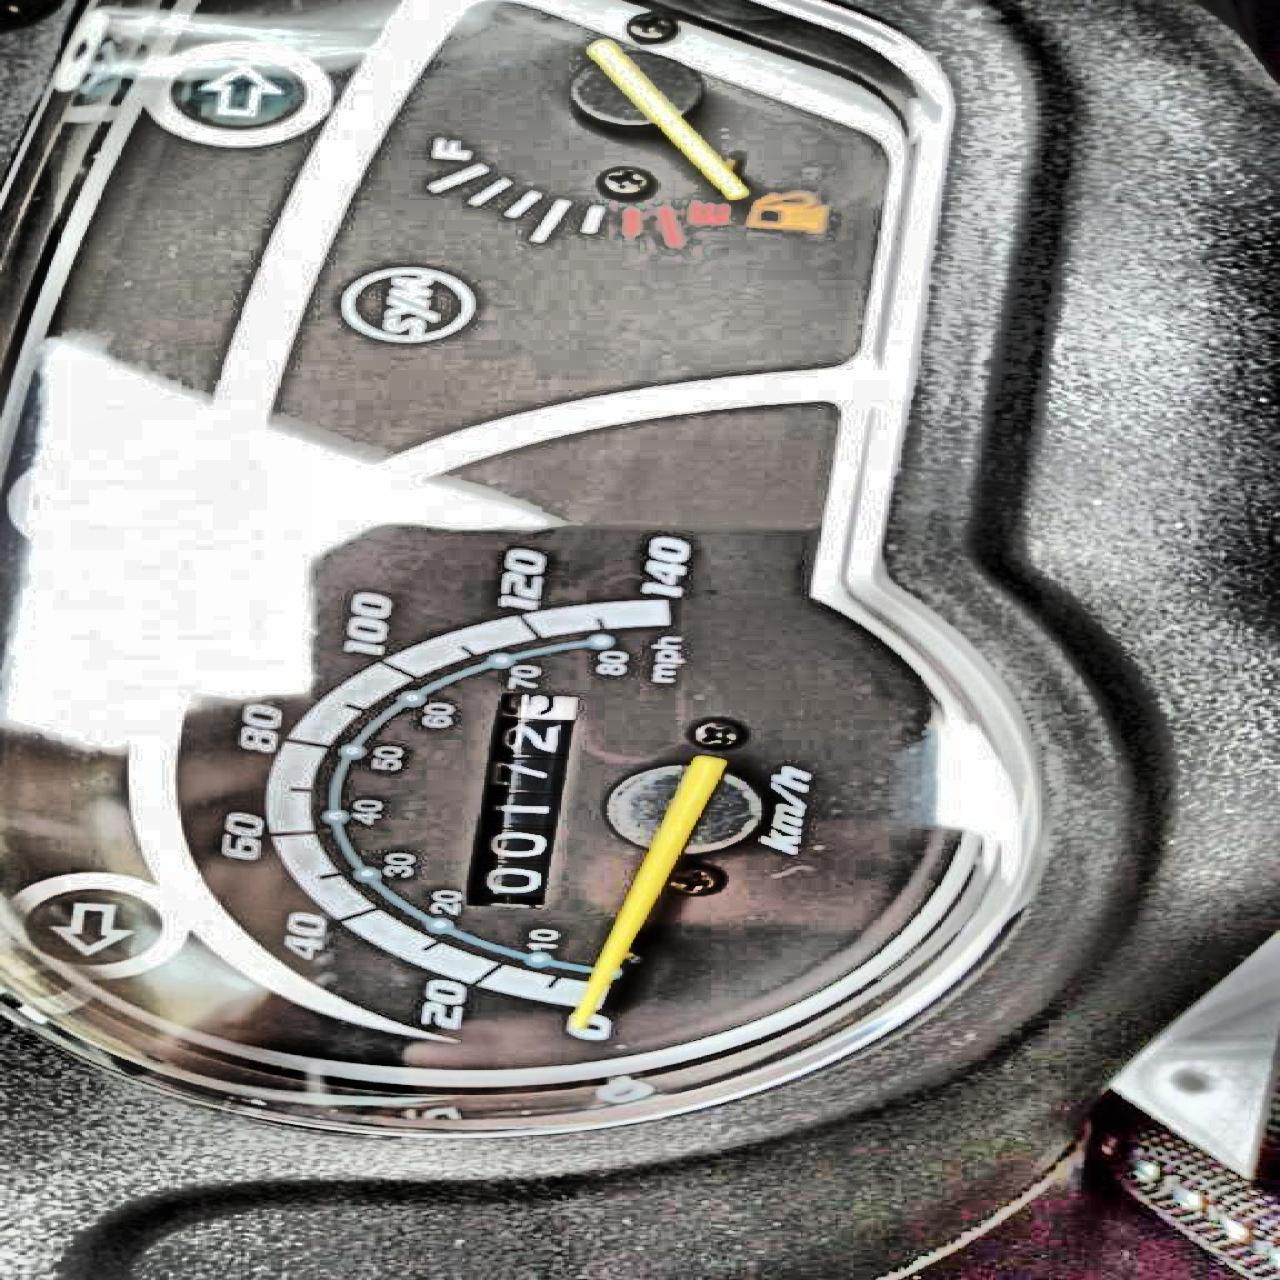0: (478, 865, 551, 896), (484, 829, 553, 858)
1: (486, 797, 553, 817)
2: (493, 724, 563, 750)
3: (489, 690, 556, 715)
7: (482, 760, 551, 787)
odometer: (458, 690, 578, 906)
